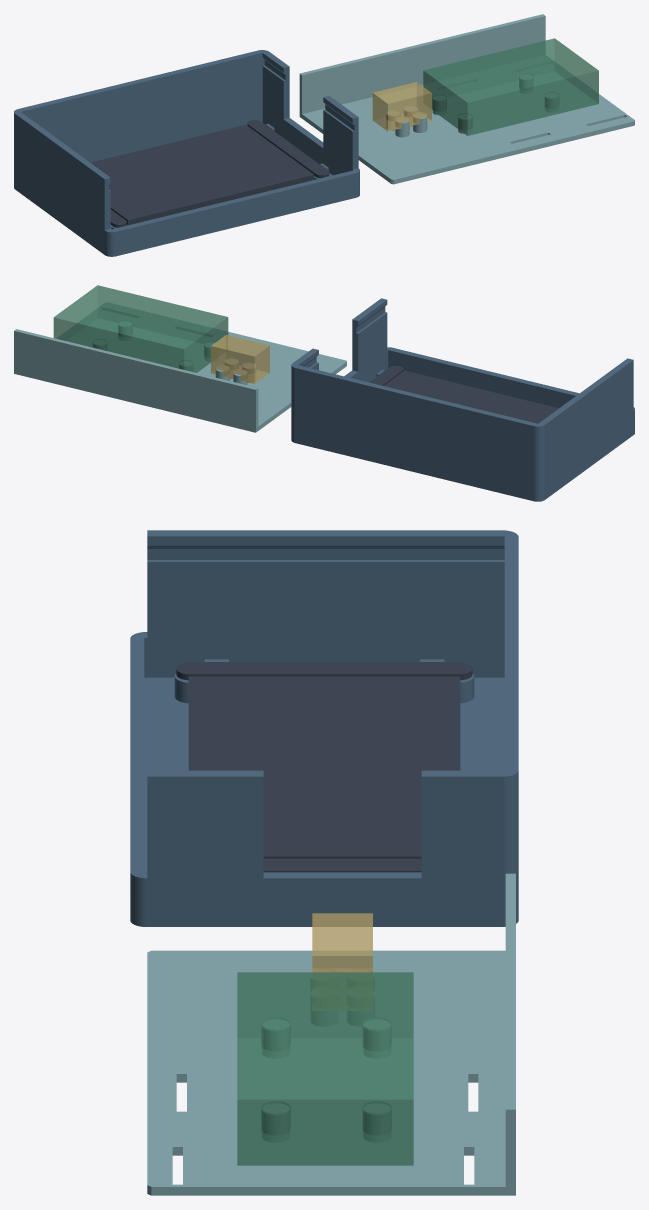
Rendered from TJC4827_simple_open_layout.glb.
The picture shows the model from 3 angles, top to bottom: view 1: azimuth 30°, elevation 25°; view 2: azimuth 150°, elevation 25°; view 3: azimuth 270°, elevation 25°; orthographic projection. The views are drawn at different scales.
Parts seen in each view (by area): view 1: TJC4827_simple_open_layout (×5); view 2: TJC4827_simple_open_layout (×5); view 3: TJC4827_simple_open_layout (×5).
Boxes of the visible parts, left/top/right/bottom form: TJC4827_simple_open_layout (×5): left=14, top=14, right=634, bottom=256; TJC4827_simple_open_layout (×5): left=14, top=285, right=634, bottom=501; TJC4827_simple_open_layout (×5): left=130, top=530, right=518, bottom=1195.
Bounding box in the file's own units: 0.301 × 0.041 × 0.096.
